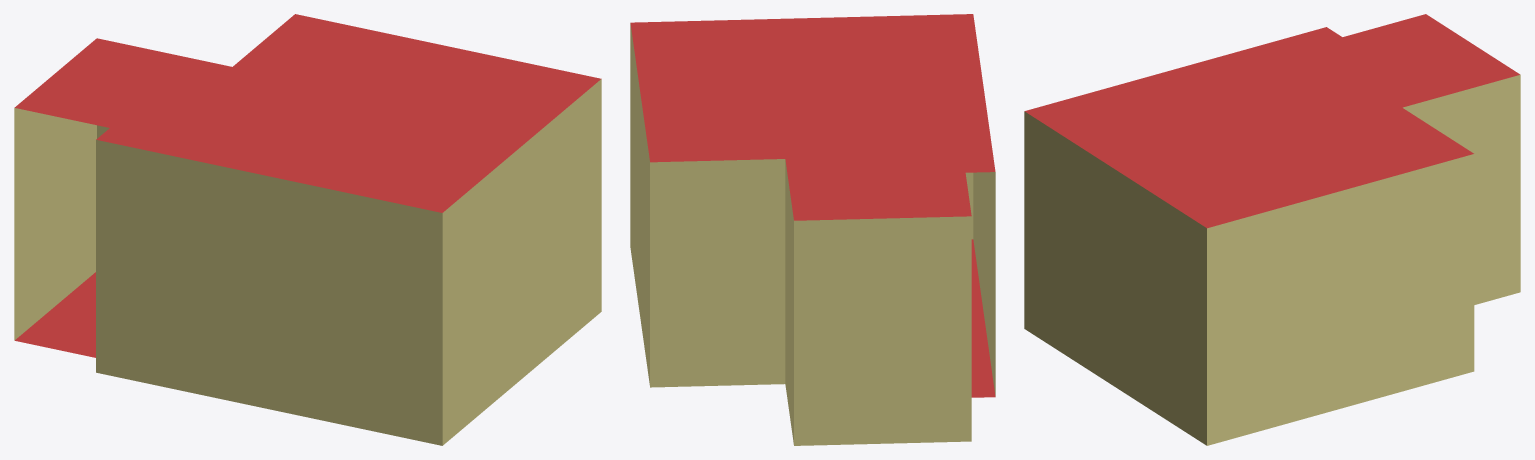
3 views of the same model, side by side, from view 1: azimuth 30°, elevation 25°; view 2: azimuth 150°, elevation 25°; view 3: azimuth 270°, elevation 25° (orthographic). The views are drawn at different scales.
Bounding box in the file's own units: 12.09 × 11.83 × 5.72.
